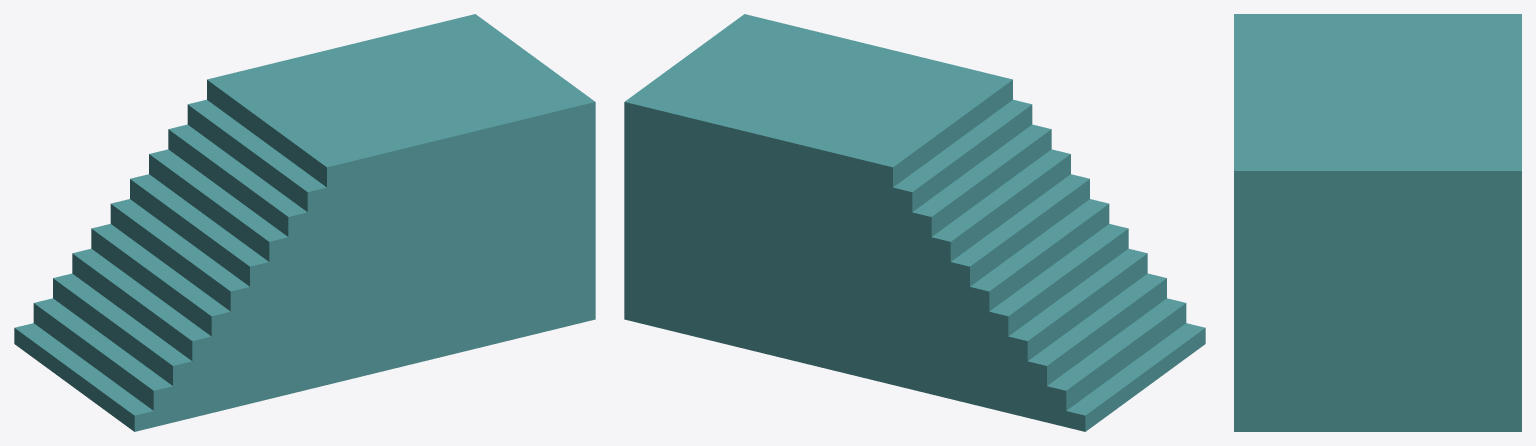
File: stairway_02.fbx
The picture shows the model from 3 angles, left to right: view 1: azimuth 30°, elevation 25°; view 2: azimuth 150°, elevation 25°; view 3: azimuth 270°, elevation 25°; orthographic projection. The views are drawn at different scales.
Parts seen in each view (by area): view 1: stairway_02; view 2: stairway_02; view 3: stairway_02.
Part boxes in pixels (x1,y1,x2,y2): stairway_02: (14,14,595,431); stairway_02: (624,14,1205,431); stairway_02: (1234,14,1521,431).
Bounding box in the file's own units: 8.87 × 4 × 4.
